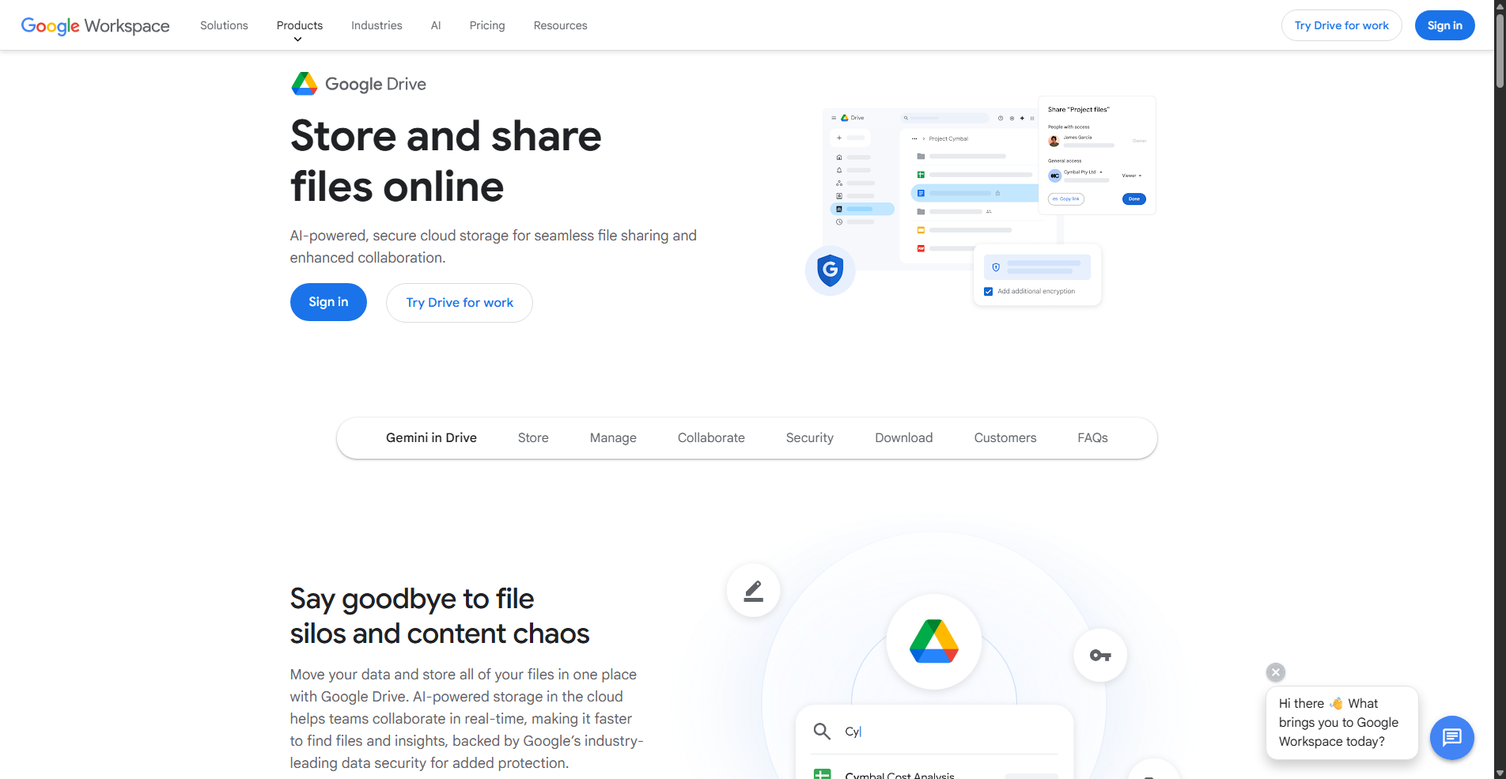button: (290, 283, 533, 323), (386, 283, 533, 323), (1281, 9, 1403, 41), (290, 283, 367, 323), (290, 283, 367, 321), (665, 74, 742, 106), (406, 293, 513, 312), (1430, 716, 1474, 760), (1415, 10, 1475, 40), (1295, 17, 1389, 34), (177, 70, 215, 108), (252, 70, 290, 108), (331, 70, 369, 108), (516, 70, 554, 108), (470, 8, 505, 43), (679, 81, 729, 99), (309, 293, 348, 312), (1428, 17, 1462, 34), (431, 8, 441, 43)
link: (659, 412, 724, 556), (659, 556, 724, 700), (311, 79, 411, 166), (586, 305, 686, 392), (760, 407, 827, 534), (659, 286, 724, 412), (430, 281, 500, 396), (430, 396, 500, 501), (447, 79, 550, 149), (447, 270, 550, 340), (447, 340, 550, 410), (332, 281, 394, 396), (447, 201, 550, 270), (311, 166, 411, 236), (311, 305, 411, 375), (311, 444, 411, 514), (586, 131, 686, 201), (311, 236, 411, 305), (311, 375, 411, 444), (659, 181, 724, 286), (569, 181, 622, 297), (569, 516, 622, 632), (569, 297, 622, 412), (430, 194, 500, 281), (332, 396, 394, 494), (760, 320, 827, 407), (569, 412, 622, 516), (332, 194, 394, 281), (332, 494, 394, 581), (447, 149, 550, 201), (235, 194, 295, 281), (586, 79, 686, 131), (586, 201, 686, 253), (586, 253, 686, 305), (760, 181, 827, 251), (760, 251, 827, 320), (369, 421, 494, 456), (386, 222, 465, 274), (386, 335, 465, 387), (660, 421, 762, 456), (957, 421, 1054, 456), (386, 181, 465, 222), (386, 387, 465, 428), (19, 15, 173, 36), (858, 421, 950, 456), (769, 421, 851, 456), (573, 421, 654, 456), (501, 241, 570, 282), (386, 304, 465, 335), (386, 274, 465, 304), (386, 428, 465, 458), (501, 421, 566, 456), (1060, 421, 1125, 456), (501, 181, 570, 211), (501, 211, 570, 241)
